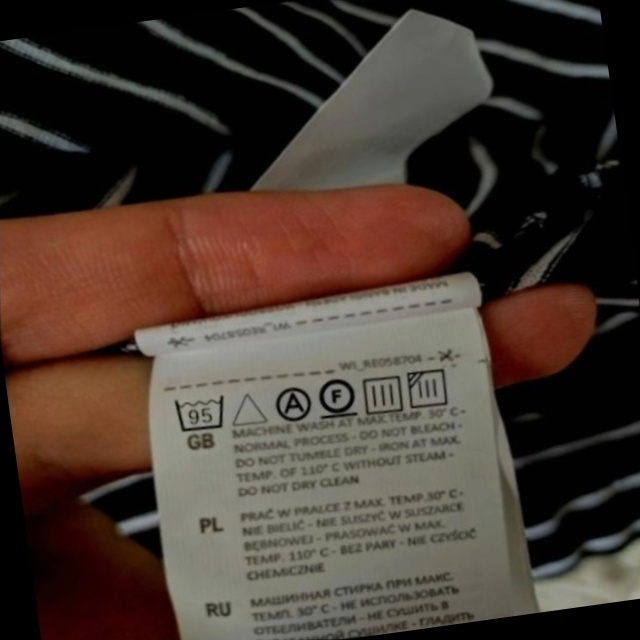95C: (166, 382, 237, 443)
bleach: (223, 381, 274, 436)
drip_dry: (353, 364, 413, 423)
drip_dry_in_shade: (400, 358, 461, 419)
dry_clean: (266, 378, 318, 430)
dry_clean_petrol_only: (310, 366, 366, 427)
